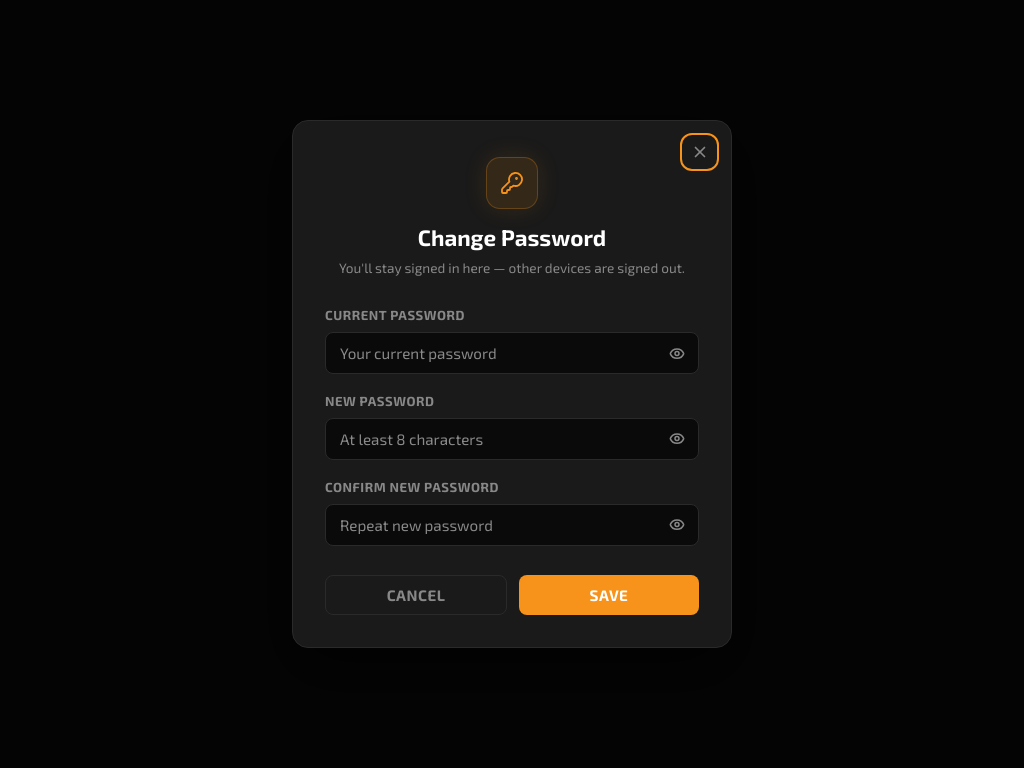
Test: ChangePasswordModal › shows the server error and stays open on failure
Type "wrongpassword" into the password field labelled "Current Password" at [512, 353], box 325,332 -> 699,374
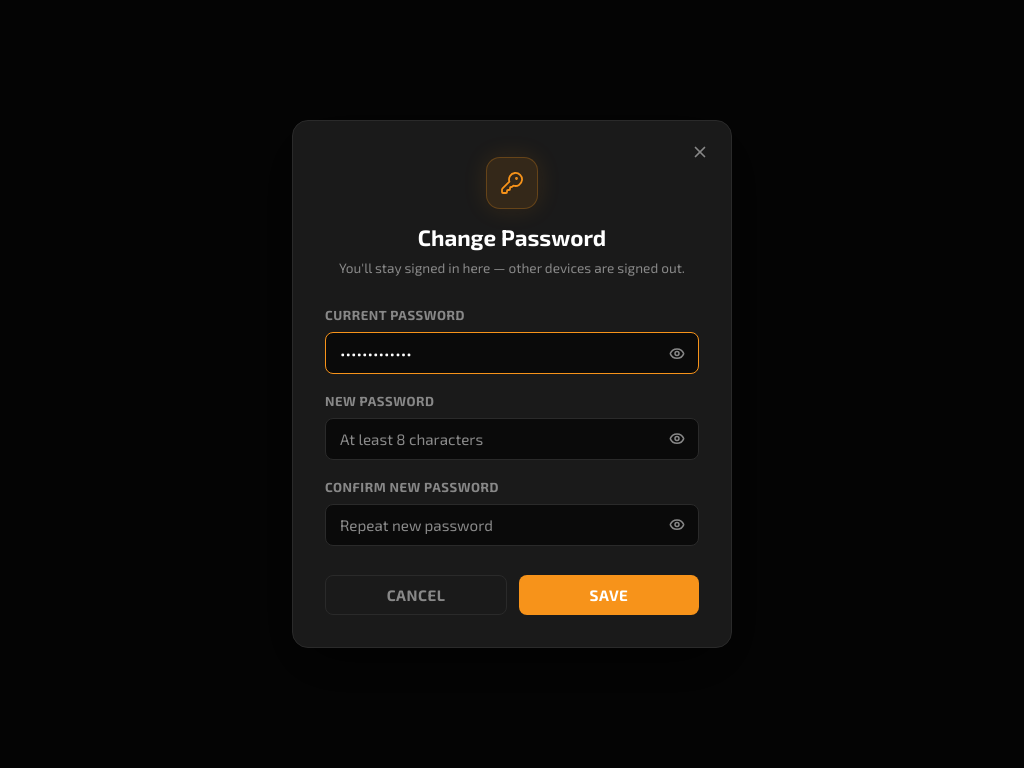
Type "newpassword1" into the password field labelled "New Password" at [512, 439], box 325,418 -> 699,460
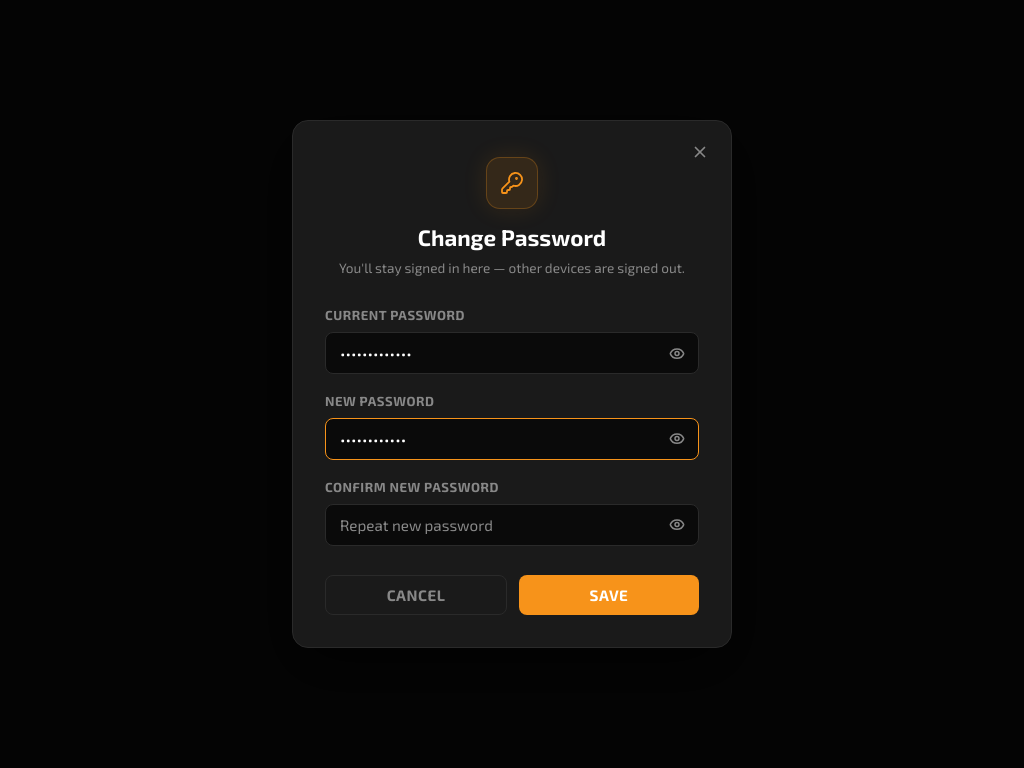
Type "newpassword1" into the password field labelled "Confirm New Password" at [512, 525], box 325,504 -> 699,546
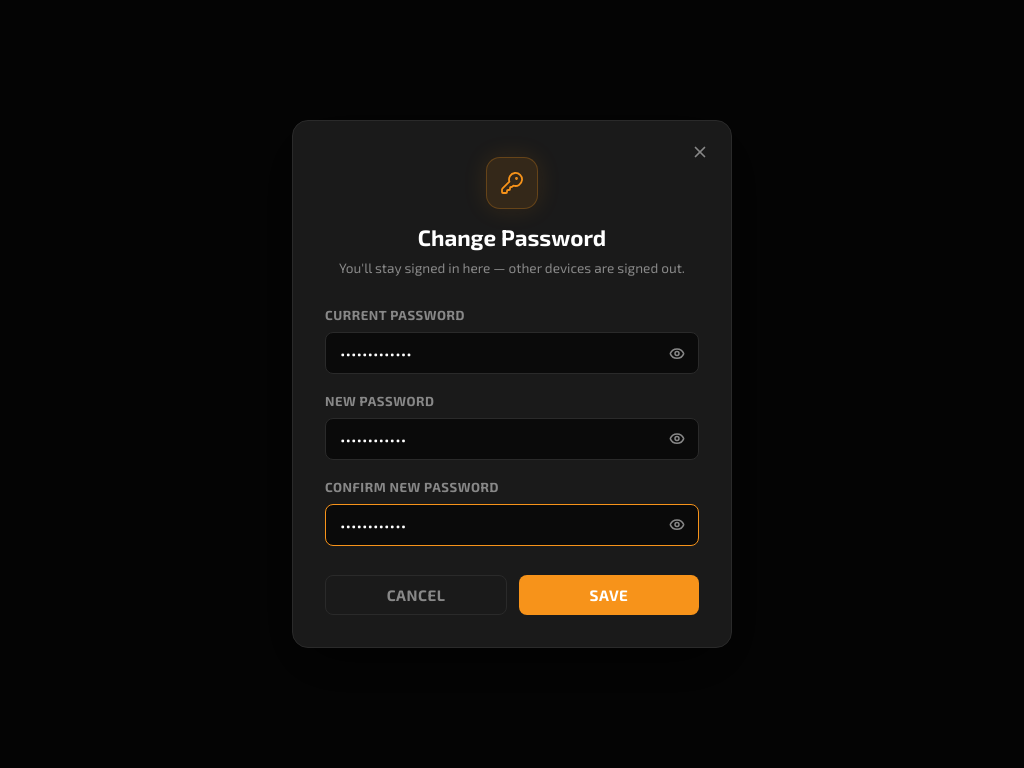
Click the button "Save" at [609, 595], box 519,575 -> 699,615
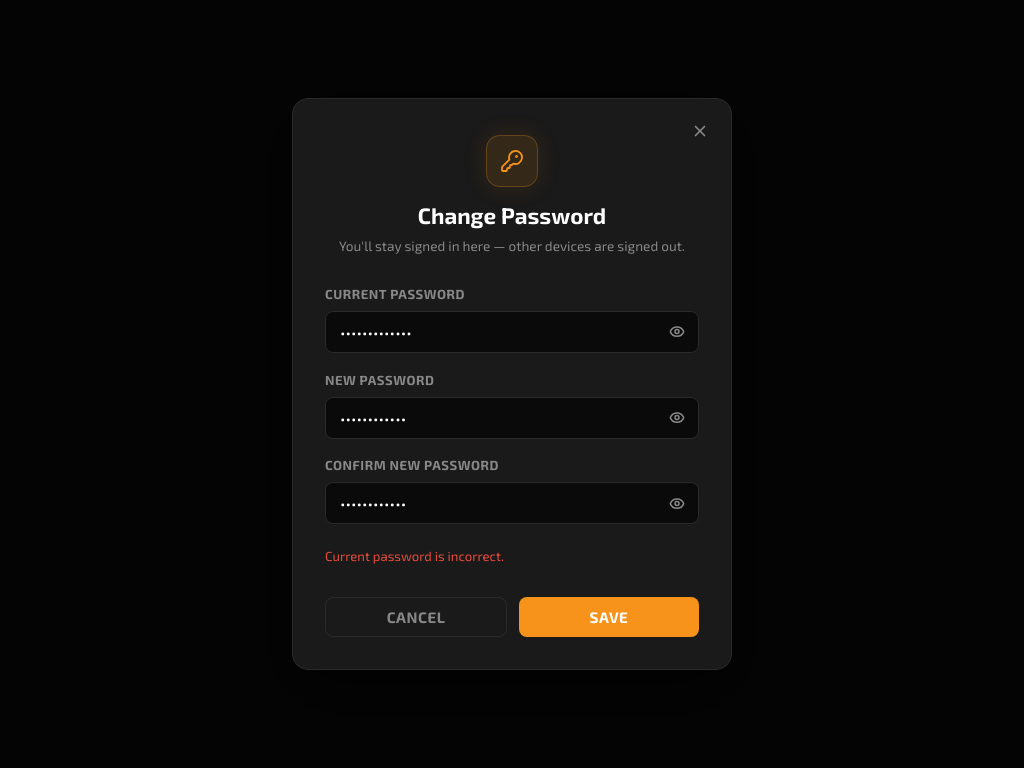
Now the text "Current password is incorrect." is shown, box 325,548 -> 504,564
